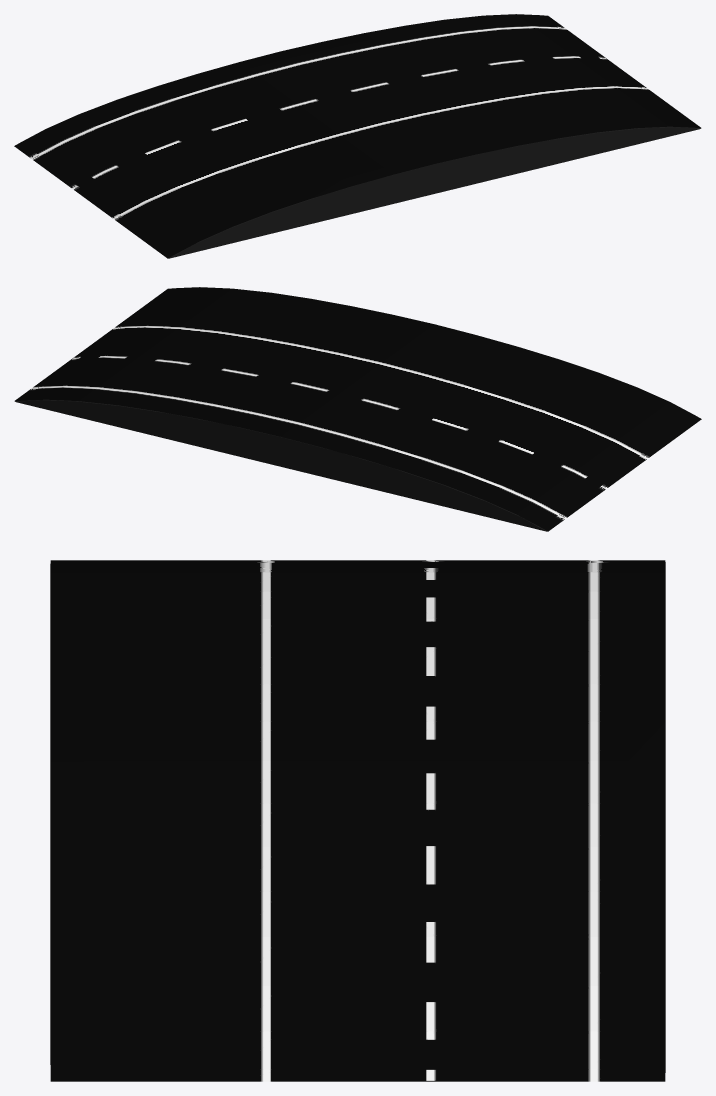
File: Ramp.dae
The picture shows the model from 3 angles, top to bottom: view 1: azimuth 30°, elevation 25°; view 2: azimuth 150°, elevation 25°; view 3: azimuth 270°, elevation 25°; orthographic projection. The views are drawn at different scales.
Visible parts, largest first — view 1: kawalek_ulicy; view 2: kawalek_ulicy; view 3: kawalek_ulicy.
Boxes of the visible parts, bbox=[...] form: kawalek_ulicy: bbox=[14, 14, 701, 258]; kawalek_ulicy: bbox=[14, 287, 701, 531]; kawalek_ulicy: bbox=[50, 560, 665, 1081].
Size of the model in its own units: 3.01 by 1.5 by 0.1632.
Materials: 2 (1 with a texture image).
